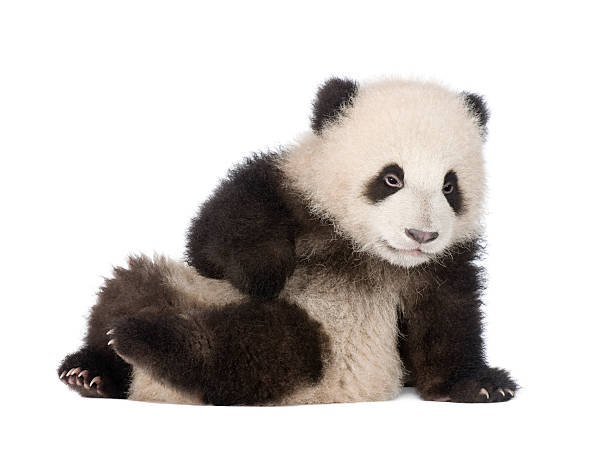panda: (268, 59, 520, 307)
